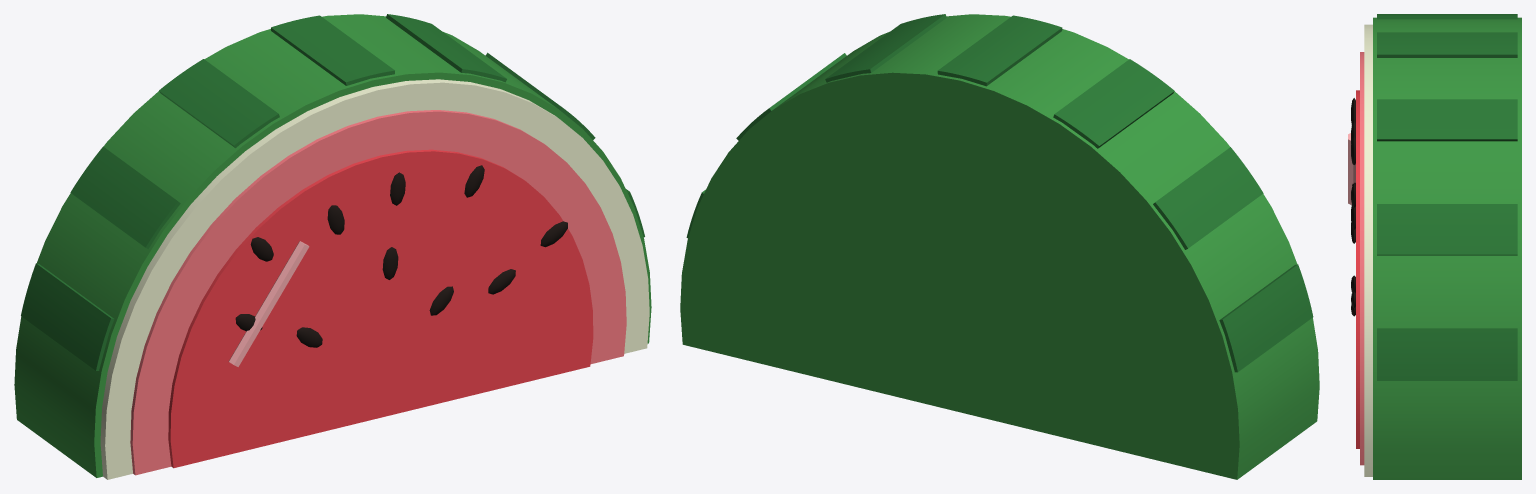
Rendered from watermelon_slice.glb.
The picture shows the model from 3 angles, left to right: view 1: azimuth 30°, elevation 25°; view 2: azimuth 150°, elevation 25°; view 3: azimuth 270°, elevation 25°; orthographic projection. The views are drawn at different scales.
Parts seen in each view (by area): view 1: WatermelonSlice; view 2: WatermelonSlice; view 3: WatermelonSlice.
Boxes of the visible parts, x1,y1,x2,y2 form: WatermelonSlice: (14, 14, 651, 479); WatermelonSlice: (680, 14, 1319, 479); WatermelonSlice: (1348, 14, 1521, 479).
Bounding box in the file's own units: 7.06 × 4.04 × 2.04.
